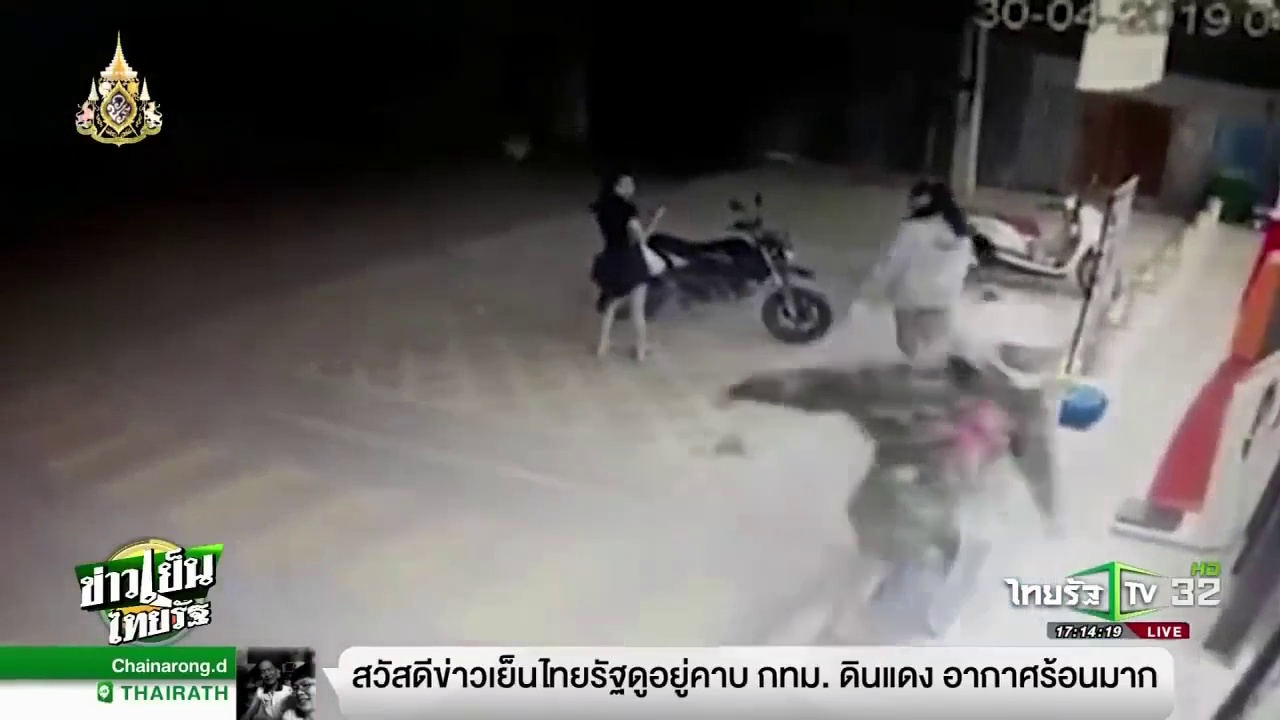helmet: (948, 296, 1063, 405)
